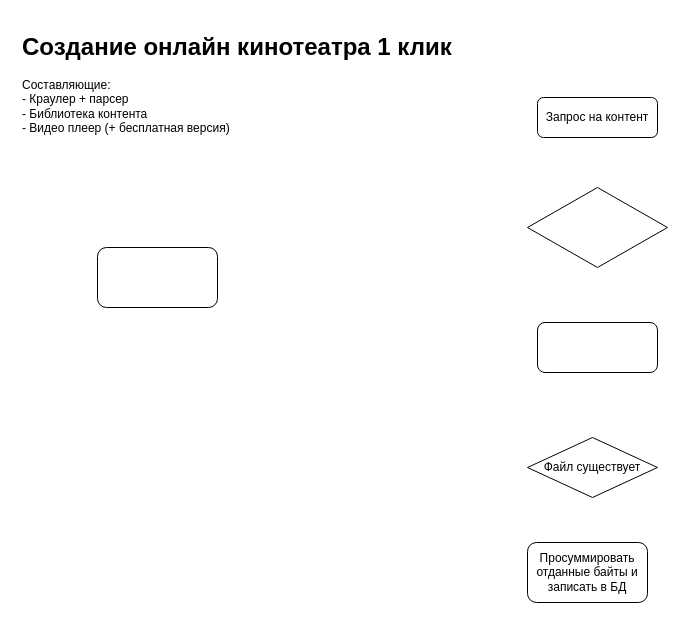
The diagram is 685 pixels wide and 620 high, and some of its shapes have lost their labels. Each missing label, with the box of its shape:
Авторизован?: (526, 186, 668, 268)
Запросить из bucket: (536, 322, 658, 372)
